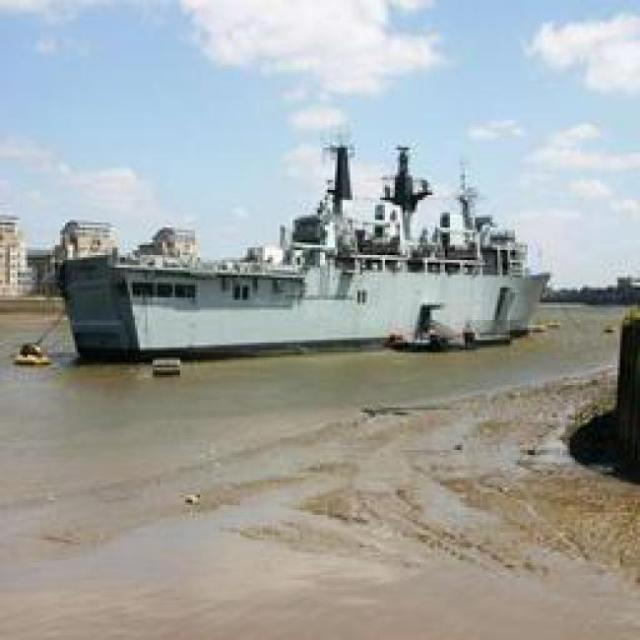boat: (37, 220, 556, 358)
